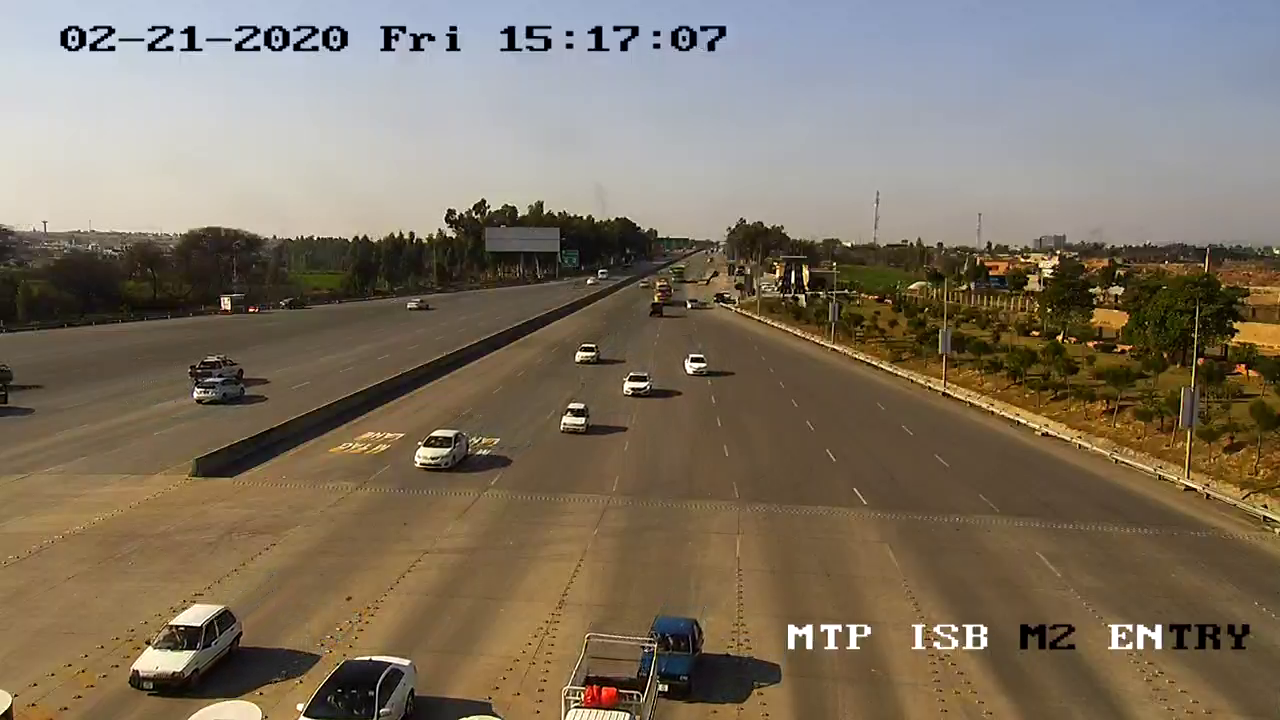f1: (126, 593, 250, 700), (638, 603, 709, 703), (405, 418, 479, 478), (555, 397, 598, 439), (618, 366, 658, 402), (679, 349, 716, 381)
